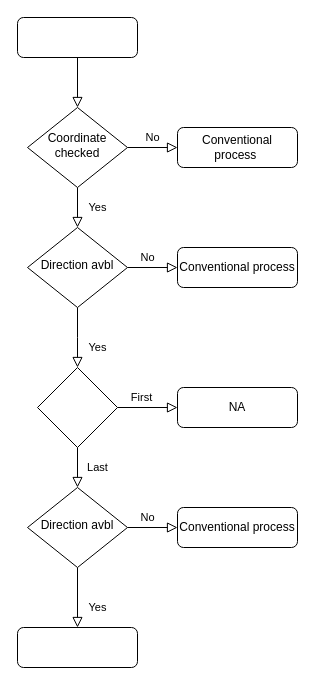
This 315x685 diagram has some shape labels left out. The shapes that lost their labels are listed below. From the top down, each one's centre as x and y in pixels, then its label:
the point at 77,37: Copy a Text
the point at 77,407: Direction postion
the point at 77,647: Position Direction on string
